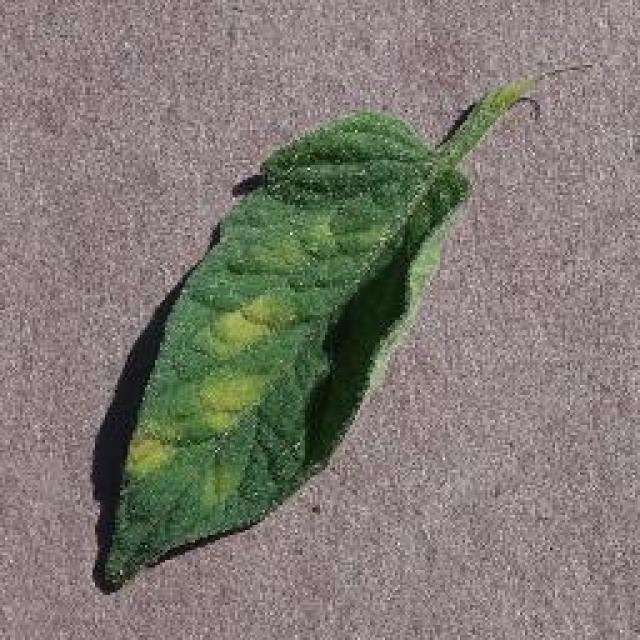Tomato___Leaf_Mold: (105, 72, 545, 588)
